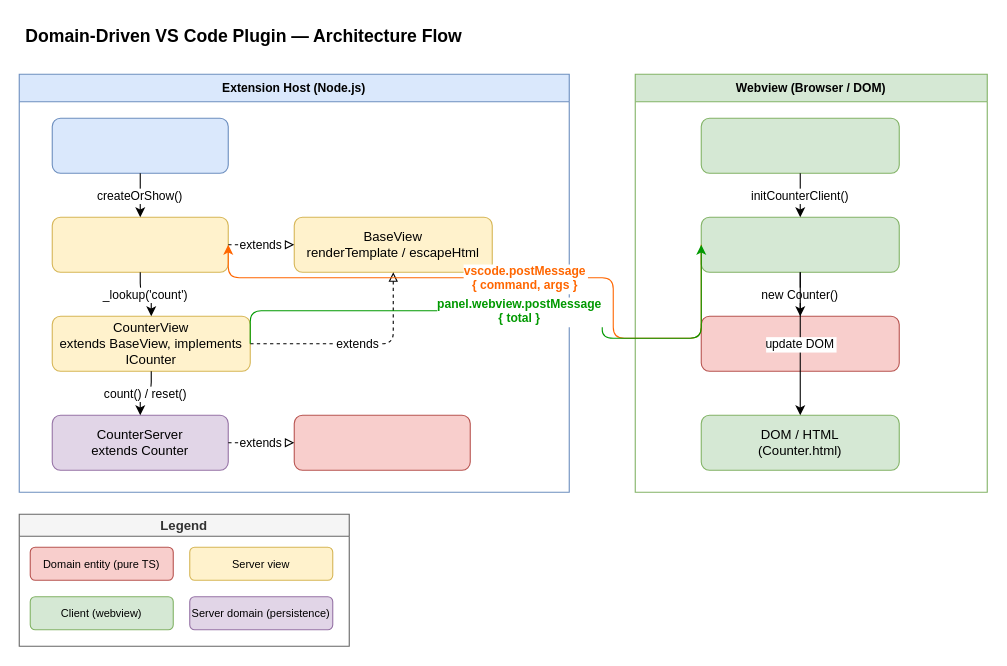
This 1007x666 diagram has some shape labels left out. Each missing label, with the centre of its shape:
Counter (bundled — same class): point (799, 343)
Counter (pure TS domain): point (381, 442)
domCounter implements ICounter (DOM): point (799, 244)
engine_client.ts (webview entry): point (799, 145)
EngineView extends BaseView: point (139, 244)
extension.ts (composition root): point (139, 145)
